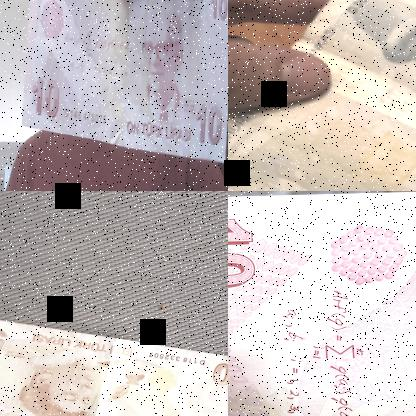5 TL: (21, 0, 227, 165)
